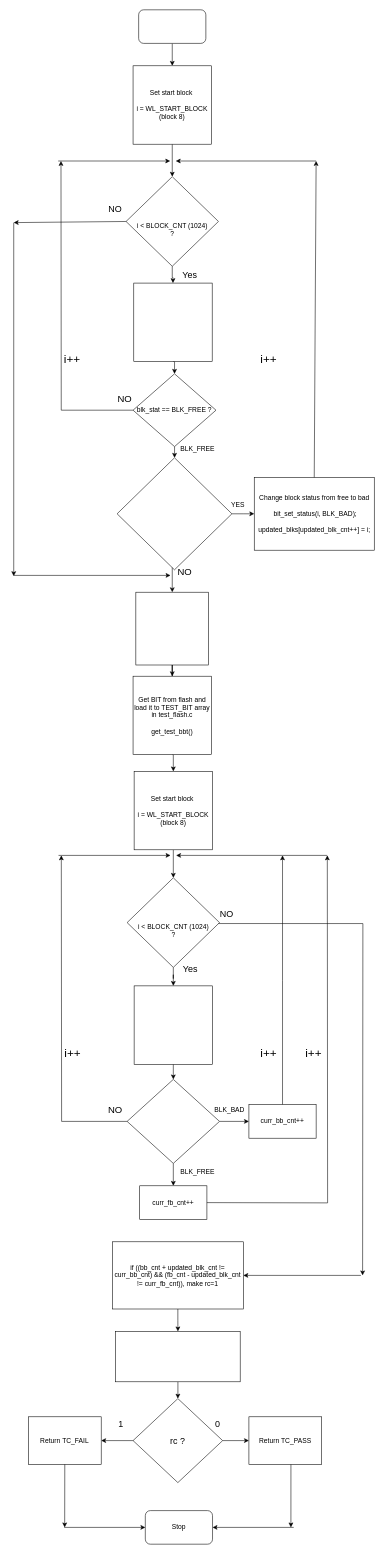
This 384x1554 diagram has some shape labels left out. Each missing label, with the centre of its shape:
"blk_stat == BLK_FREE/BLK_BAD ?" belongs at [173,1121].
"check if update block count is less than four if(updated_blk_cnt >= 4) break;" belongs at [174,513].
"Get status of the i-th block from BIT blk_stat = bit_get_status(i)" belongs at [172,322].
"Get status of the i-th block from TEST_BIT blk_stat = test_bit_get_status(i)" belongs at [173,1024].
"Revert the modified block status bit_set_status(updated_blks[i], BLK_FREE)" belongs at [177,1356].
"Save current BIT to flash from ltffs.c fs_save_bit()" belongs at [172,628].
"start" belongs at [172,26].
